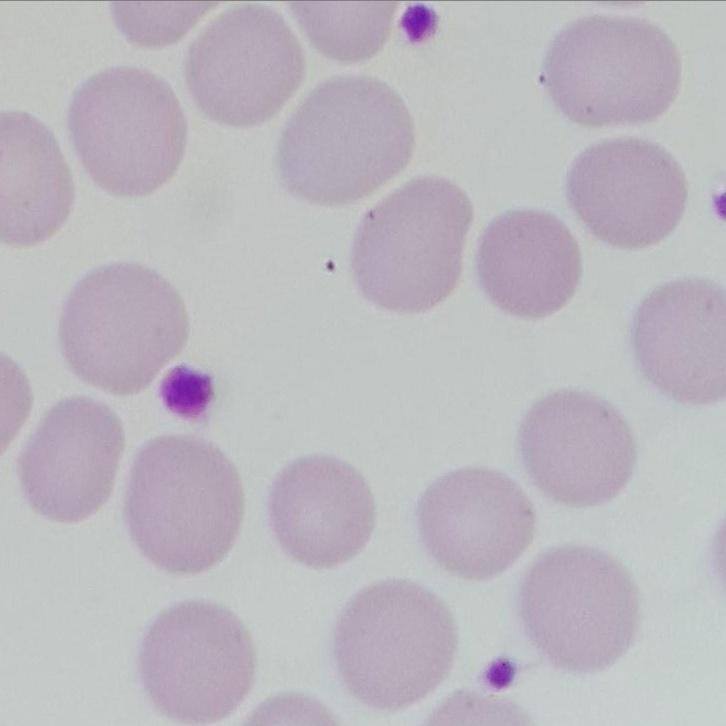Uninfected: (60, 260, 188, 396), (277, 79, 413, 207), (350, 179, 473, 314), (334, 580, 460, 709), (517, 547, 639, 675), (67, 65, 185, 196), (126, 437, 241, 571), (543, 17, 681, 128), (137, 602, 259, 726), (420, 463, 538, 583), (521, 389, 636, 507), (569, 136, 686, 251), (16, 397, 124, 519), (189, 10, 302, 123), (269, 455, 378, 569), (631, 277, 726, 401), (477, 210, 580, 318), (0, 112, 68, 244)
